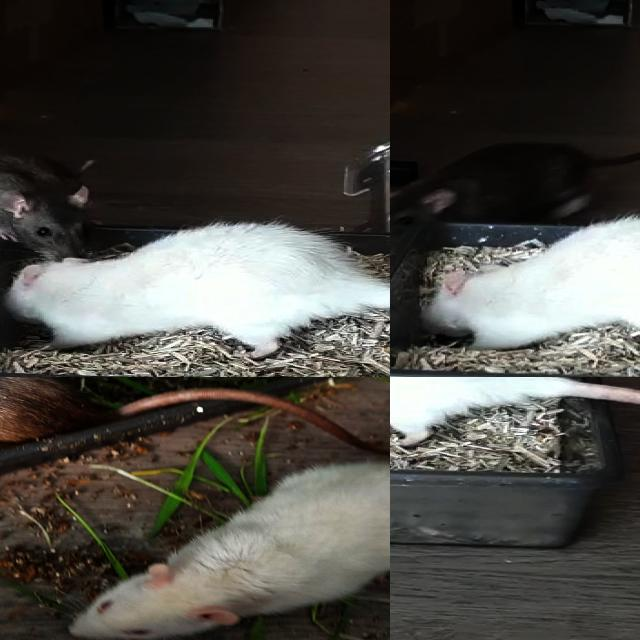rat: (65, 461, 390, 640), (6, 224, 360, 356), (421, 215, 640, 352), (390, 139, 593, 266), (0, 147, 95, 268)
